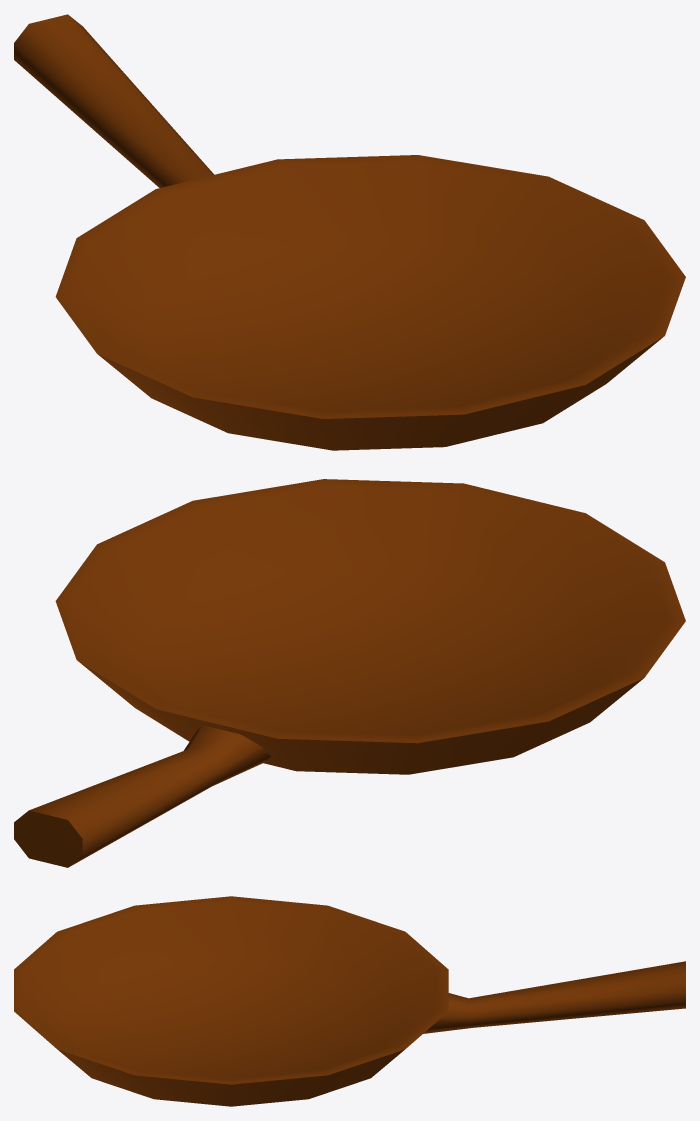
Rendered from Sarten_Buena.fbx.
The picture shows the model from 3 angles, top to bottom: view 1: azimuth 30°, elevation 25°; view 2: azimuth 150°, elevation 25°; view 3: azimuth 270°, elevation 25°; orthographic projection. The views are drawn at different scales.
Visible parts, largest first — view 1: Object024; view 2: Object024; view 3: Object024.
Boxes of the visible parts, x1,y1,x2,y2 form: Object024: [14, 14, 685, 450]; Object024: [14, 479, 685, 867]; Object024: [14, 896, 685, 1106].
Bounding box in the file's own units: 21.68 × 3.4 × 32.68.
